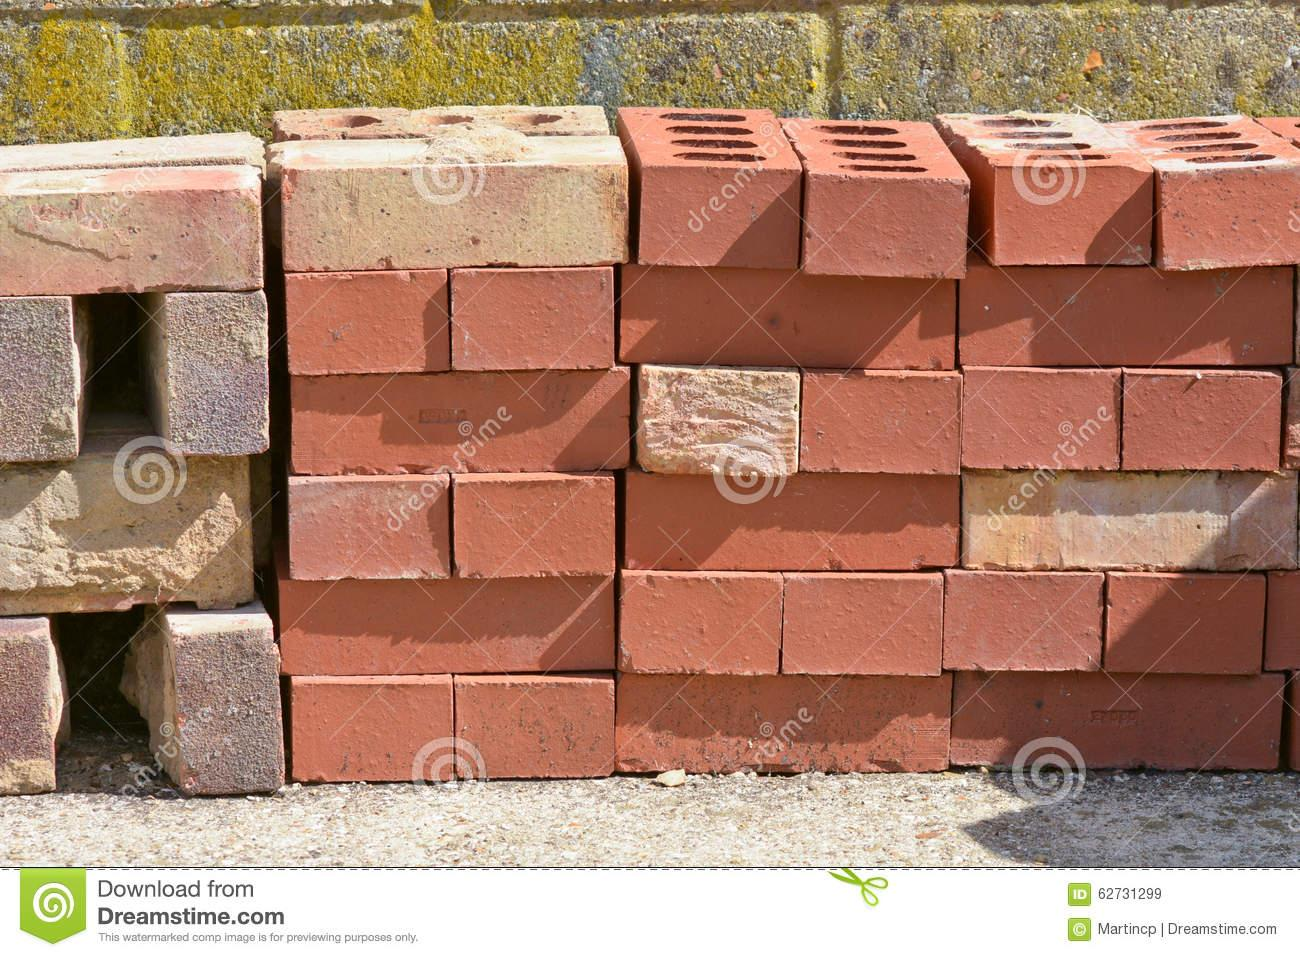brick: (0, 455, 253, 612), (284, 161, 628, 273), (293, 366, 631, 472), (621, 264, 956, 369), (279, 576, 614, 676), (959, 267, 1296, 365), (615, 674, 951, 772), (962, 471, 1300, 568), (950, 670, 1281, 768), (627, 472, 960, 569), (0, 187, 262, 299), (173, 626, 284, 792), (639, 365, 801, 475), (804, 173, 970, 278), (286, 269, 448, 374), (167, 290, 268, 454), (453, 267, 617, 368), (640, 166, 801, 269), (621, 576, 783, 676), (800, 374, 961, 474), (454, 476, 616, 576), (1105, 574, 1267, 674), (290, 478, 448, 579), (993, 166, 1154, 264), (1121, 371, 1281, 470), (962, 369, 1120, 468), (944, 574, 1102, 671), (292, 682, 451, 778), (455, 680, 614, 776), (784, 577, 944, 672), (1163, 166, 1300, 270), (0, 296, 79, 463), (1, 634, 57, 796)
